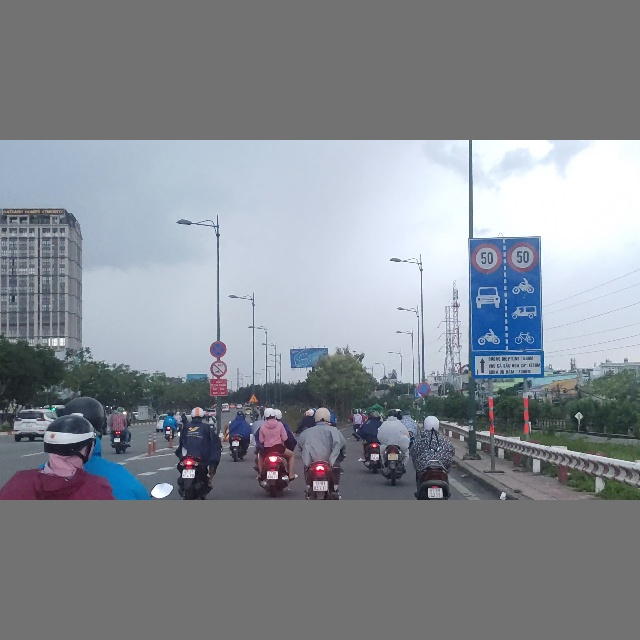P.111: (210, 360, 228, 377)
P.127*50: (506, 237, 540, 273), (470, 239, 503, 274)
P.130: (210, 341, 227, 358)
P.131a: (417, 382, 430, 396)
R.415a: (469, 275, 543, 351)
W.201a: (247, 393, 259, 402)
